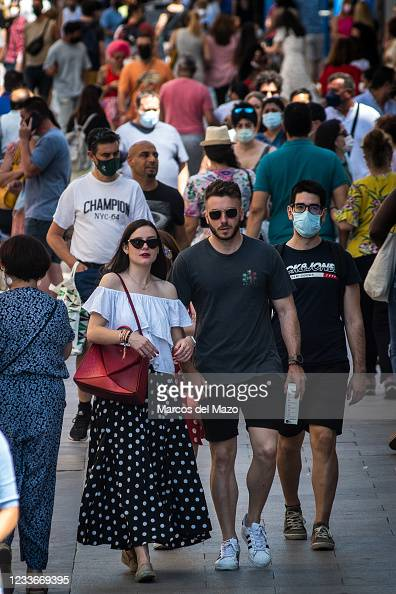with_mask: (293, 192, 321, 238), (96, 143, 125, 180), (234, 105, 257, 146), (261, 100, 282, 131), (141, 95, 159, 129)
without_mask: (207, 201, 237, 240), (128, 229, 160, 265), (135, 144, 158, 177)
